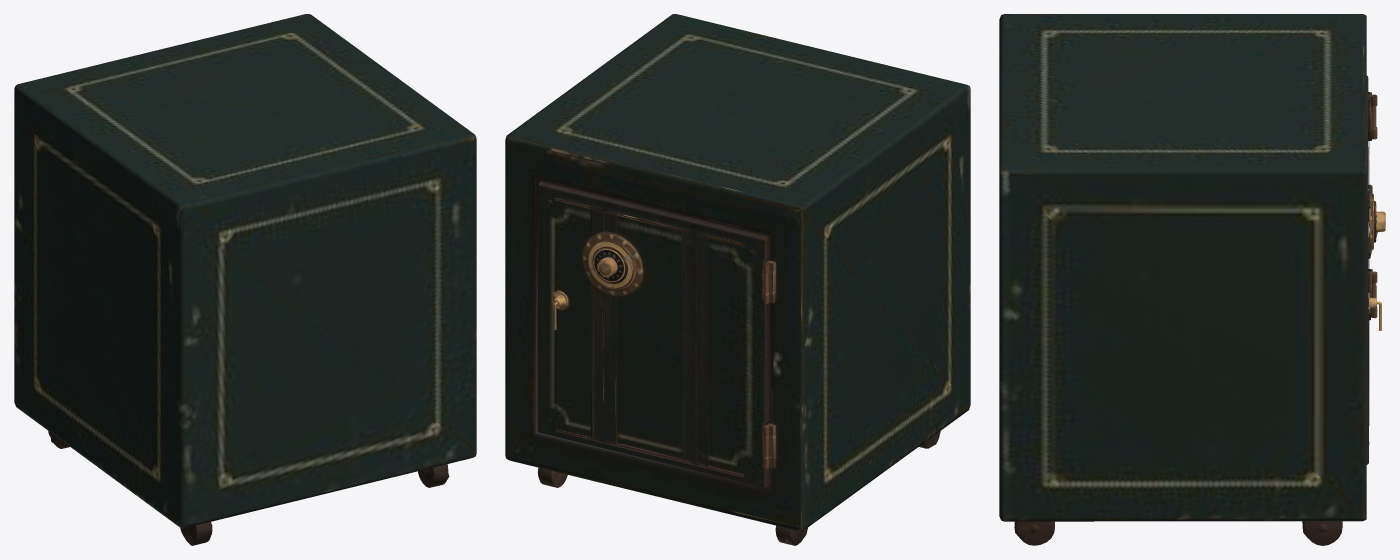
The model's file is office-vault-safe.glb.
3 views of the same model, side by side, from view 1: azimuth 30°, elevation 25°; view 2: azimuth 150°, elevation 25°; view 3: azimuth 270°, elevation 25° (orthographic). The views are drawn at different scales.
Visible parts, largest first — view 1: vault-safe; view 2: vault-safe; view 3: vault-safe.
Part boxes in pixels (x1=…): vault-safe: x1=14, y1=14, x2=476, y2=545; vault-safe: x1=505, y1=14, x2=970, y2=545; vault-safe: x1=999, y1=14, x2=1385, y2=545.
Size of the model in its own units: 1.31 by 1.5 by 1.35.
1 material, 1 textured.
